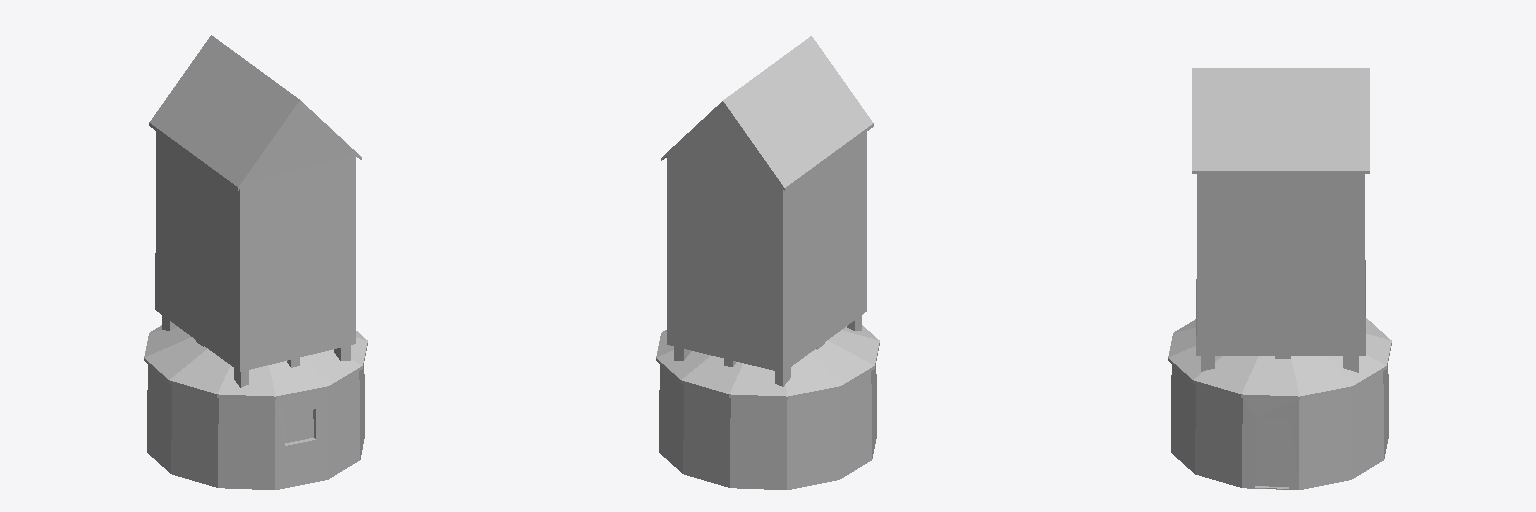
Rendered from windmill_base.obj.
3 renders of one model, left to right at view 1: azimuth 30°, elevation 25°; view 2: azimuth 150°, elevation 25°; view 3: azimuth 270°, elevation 25°, orthographic.
Parts seen in each view (by area): view 1: WindMill; view 2: WindMill; view 3: WindMill.
Boxes of the visible parts, box(x1,y1,x2,y2) form: WindMill: box(144, 35, 367, 489); WindMill: box(656, 36, 879, 489); WindMill: box(1168, 68, 1391, 489).
Bounding box in the file's own units: 117 × 217 × 117.